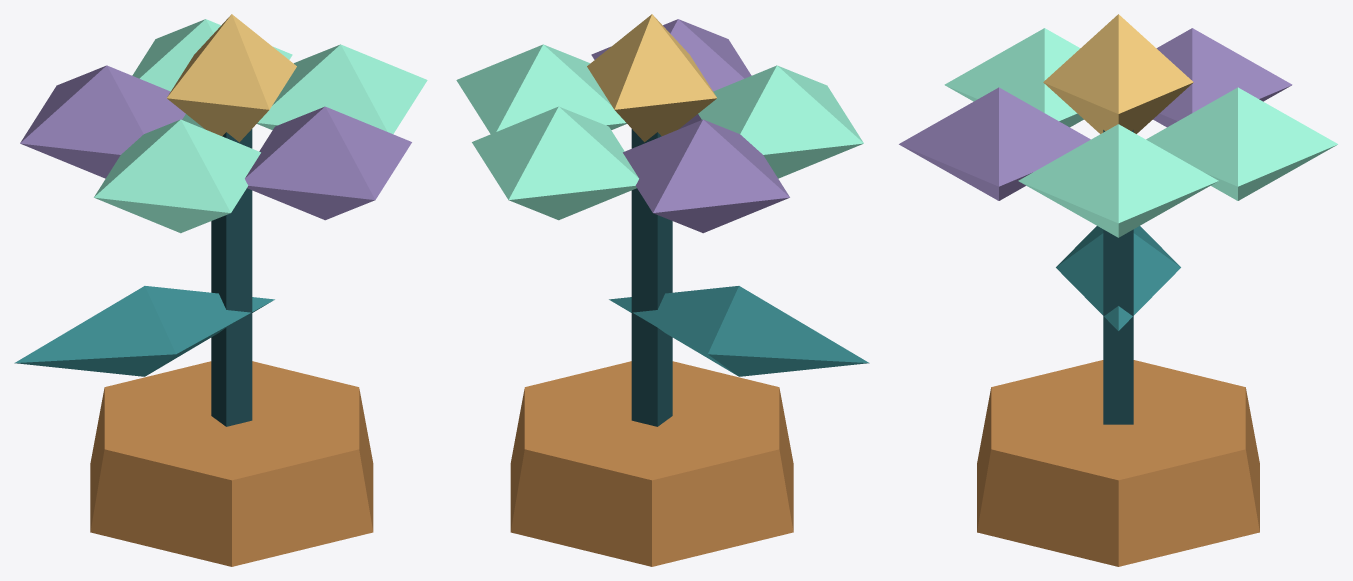
File: Moonbloom.obj
3 renders of one model, left to right at view 1: azimuth 30°, elevation 25°; view 2: azimuth 150°, elevation 25°; view 3: azimuth 270°, elevation 25°, orthographic.
Bounding box in the file's own units: 1.9 × 2.12 × 1.75.
